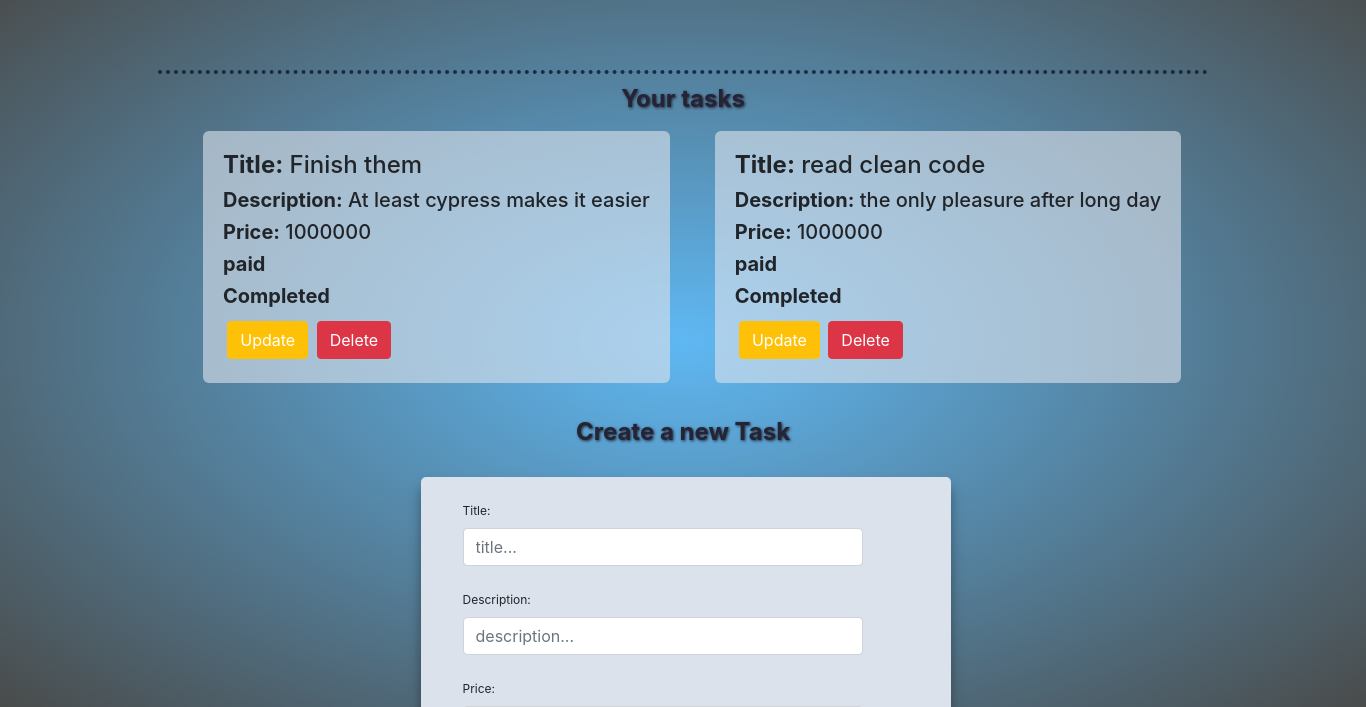
Test case: Task › deletes task
The width and height of the screenshot is (1366, 707).
(page scrolled)
Expected: the heading with class "tasks" shows "read clean code", [801, 150, 985, 179]
Step 1. Click the button with class "removeButton" below "the only pleasure after long day" → click(866, 340), box [828, 321, 903, 359]
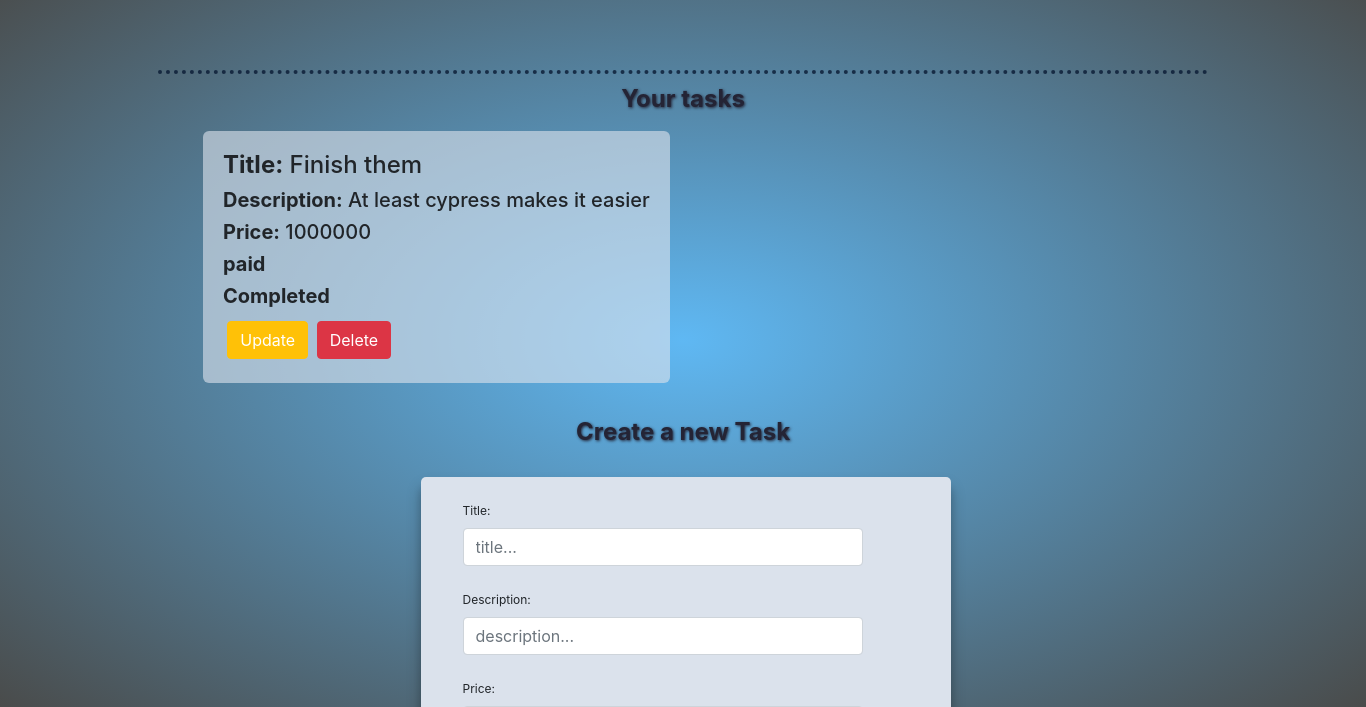
Expected: the heading with class "tasks" no longer shows "read clean code"
